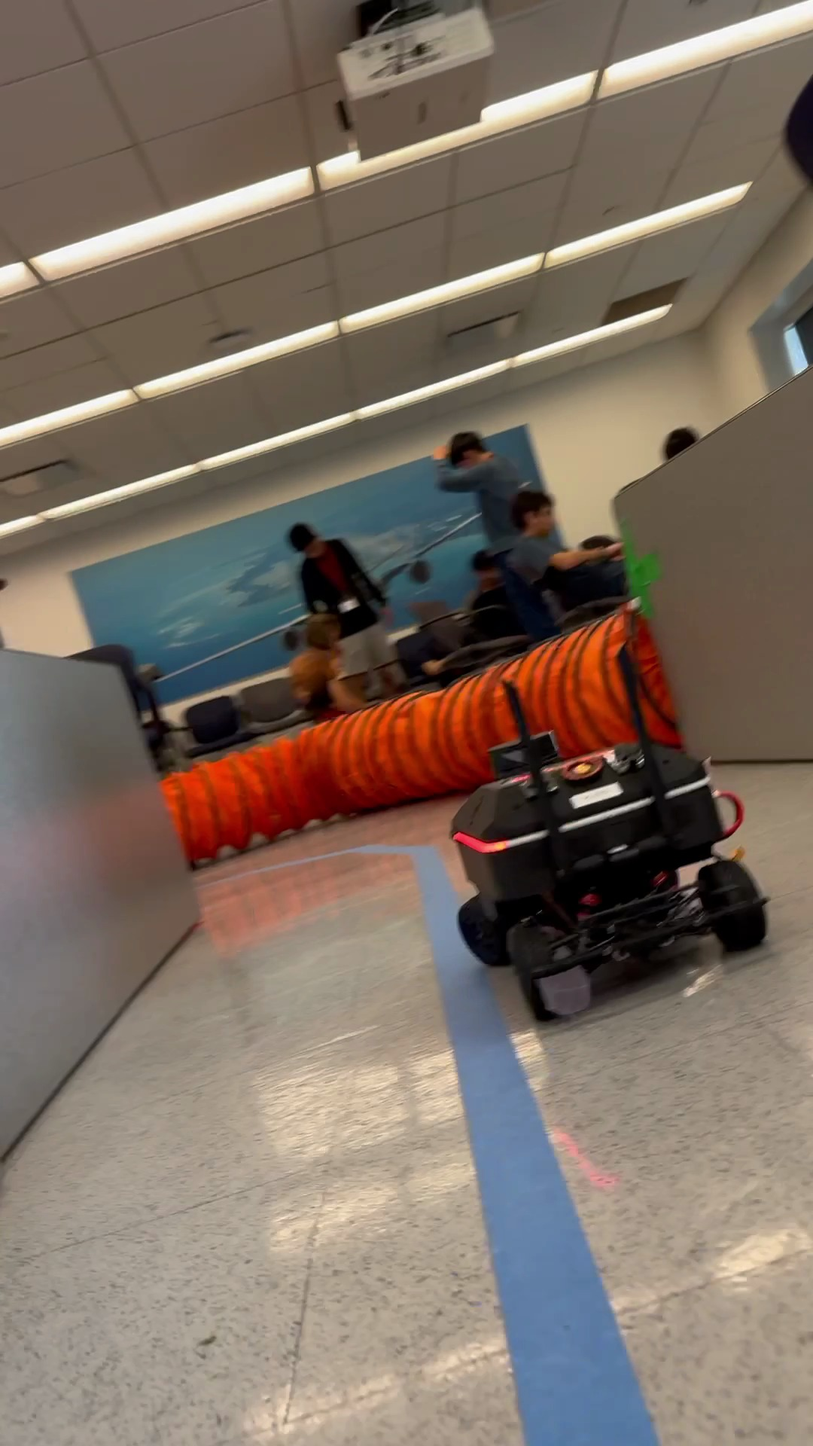racecar: (448, 638, 767, 1024)
